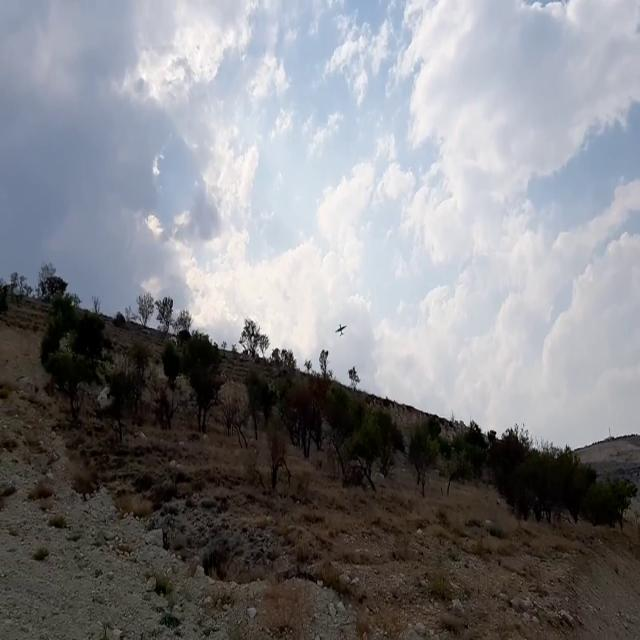iha: (337, 315, 342, 333)
